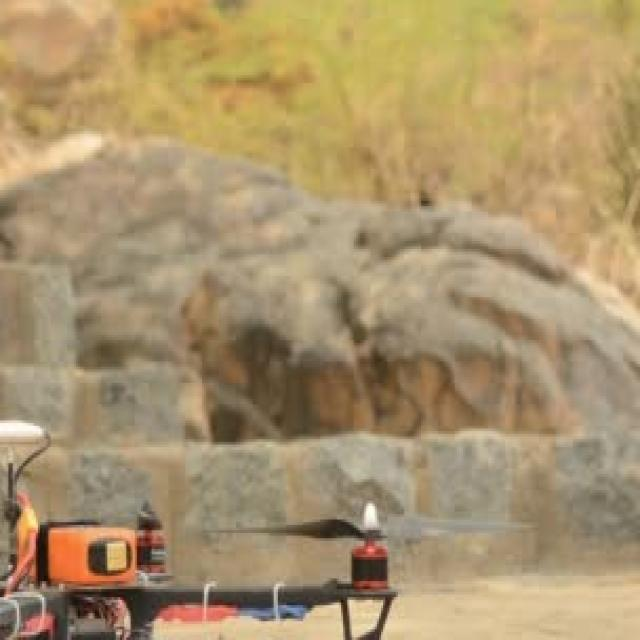drone: (0, 420, 539, 640)
